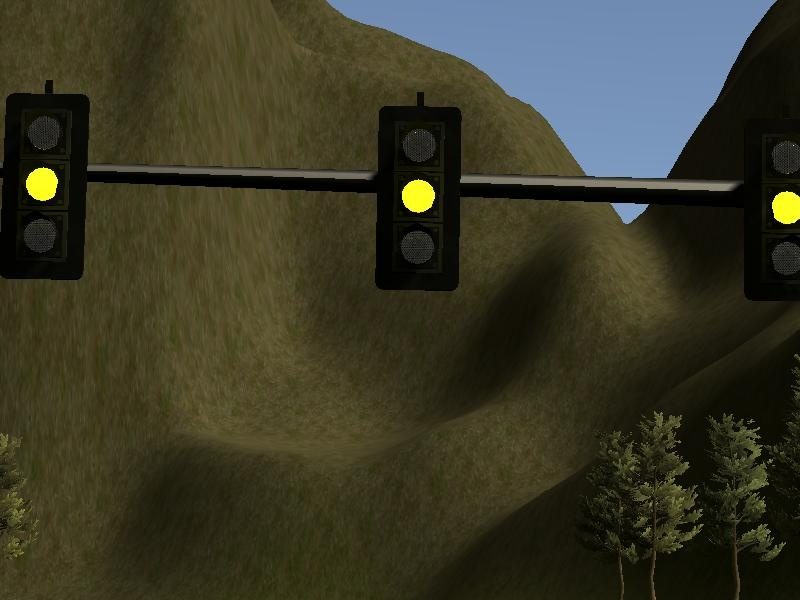Yellow: (6, 97, 81, 281), (379, 106, 453, 289), (745, 121, 800, 300)
